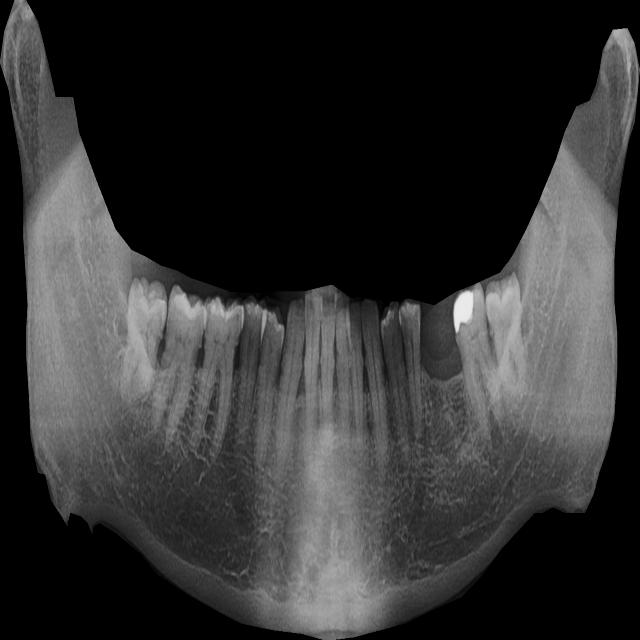mandibula: (0, 0, 640, 640)
